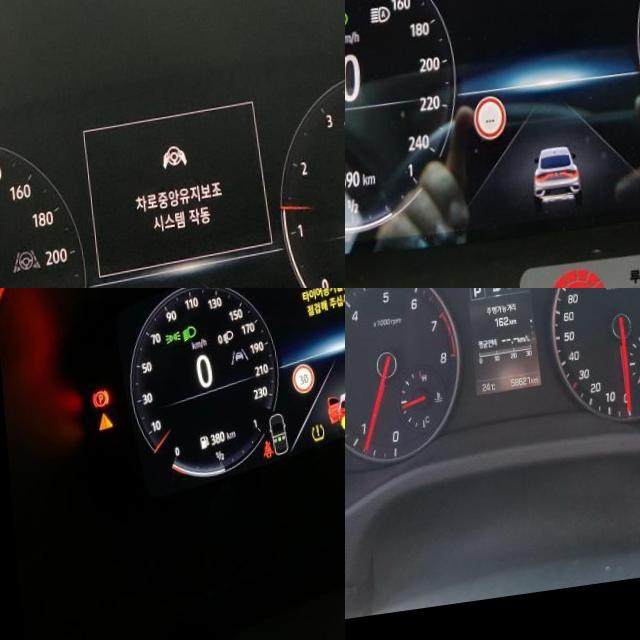Central Warning lamp: (91, 414, 106, 434)
Low beam: (176, 329, 191, 348)
SideLamp: (158, 334, 174, 349)
